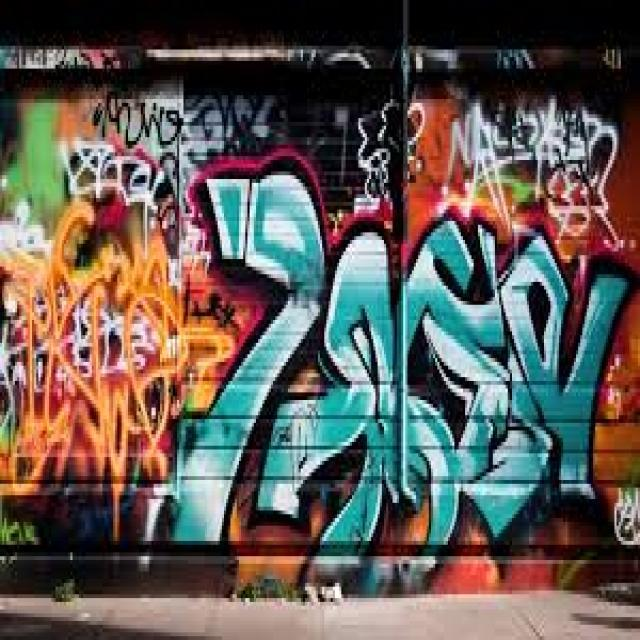-: (168, 168, 627, 538), (0, 201, 238, 480), (438, 95, 629, 233), (62, 84, 182, 212), (351, 95, 422, 220)
